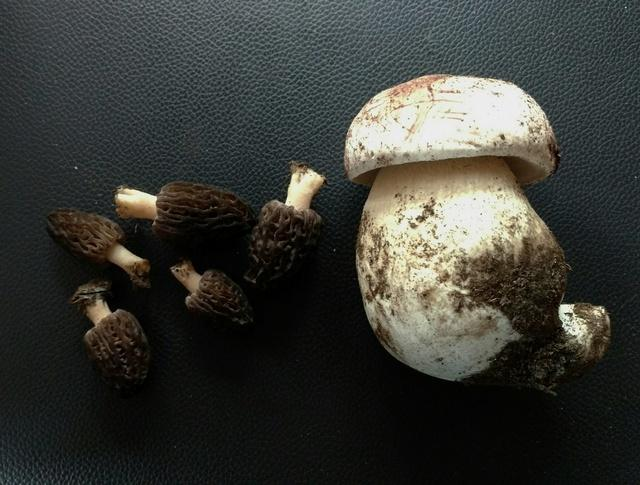edible_mushroom: (342, 72, 611, 394), (242, 160, 329, 288), (68, 276, 151, 391), (113, 179, 254, 246), (45, 206, 151, 289), (169, 257, 253, 329)
